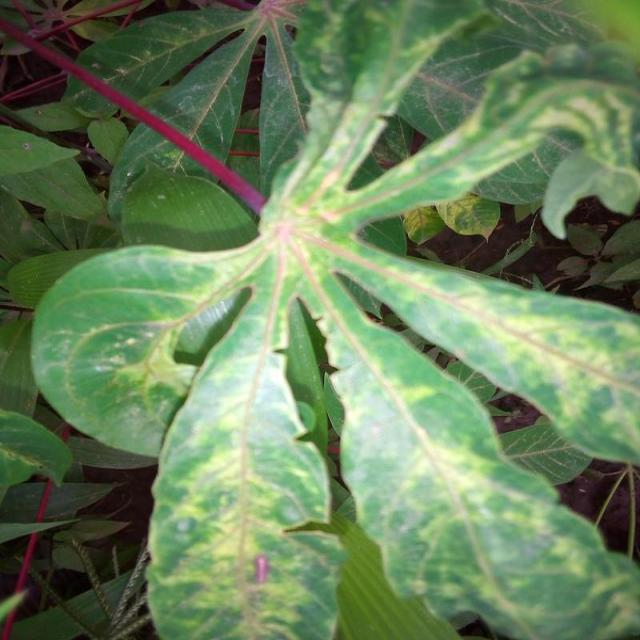Mosaico: (107, 155, 640, 630), (125, 9, 373, 179)
